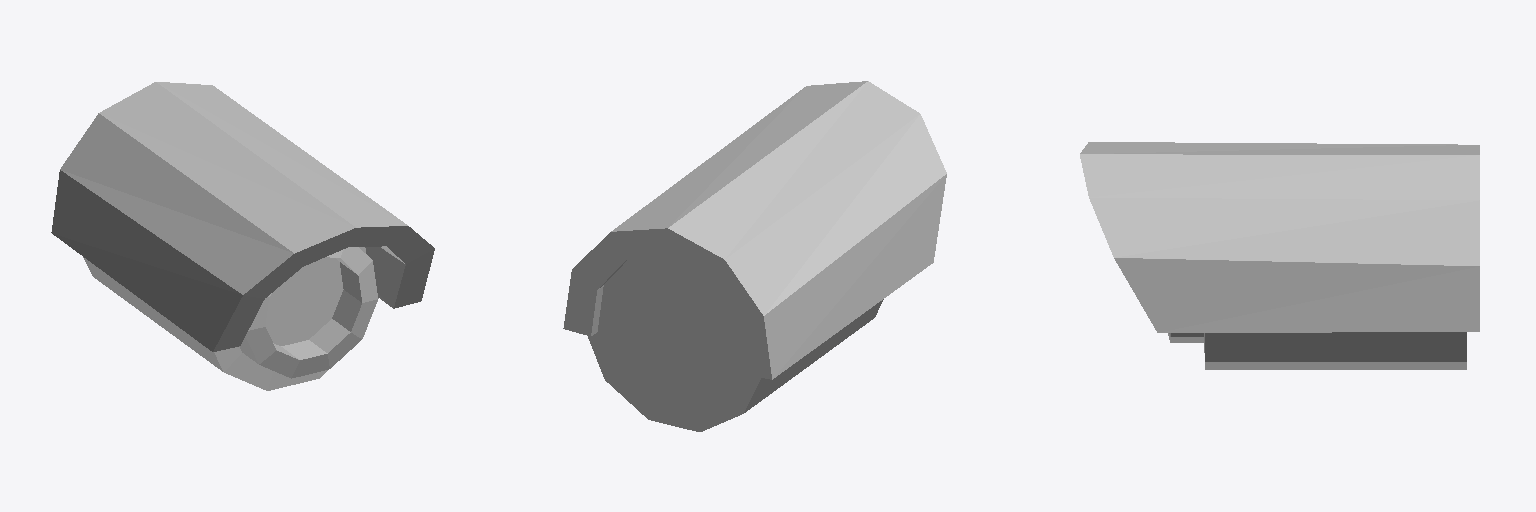
The model's file is camera_head.obj.
The picture shows the model from 3 angles: view 1: azimuth 30°, elevation 25°; view 2: azimuth 150°, elevation 25°; view 3: azimuth 270°, elevation 25°; orthographic projection.
Visible parts, largest first — view 1: Cylinder, Cylinder.002; view 2: Cylinder; view 3: Cylinder.
Boxes of the visible parts, <box> form: Cylinder: <box>51,82,434,390</box>; Cylinder.002: <box>265,257,343,345</box>; Cylinder: <box>563,81,946,431</box>; Cylinder: <box>1080,142,1479,369</box>.
Size of the model in its own units: 1.49 by 1.39 by 2.48.